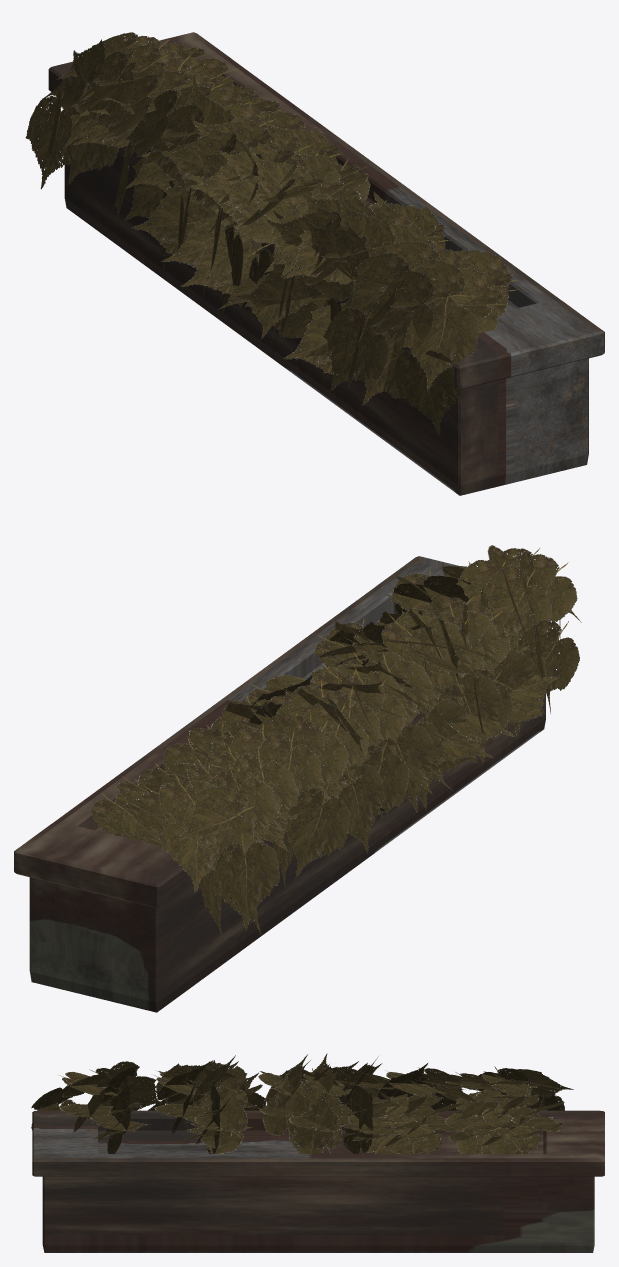
Rendered from Zuurstofplantjebak.fbx.
3 renders of one model, top to bottom at view 1: azimuth 30°, elevation 25°; view 2: azimuth 150°, elevation 25°; view 3: azimuth 270°, elevation 25°, orthographic. The views are drawn at different scales.
Parts seen in each view (by area): view 1: bak; view 2: bak; view 3: bak.
Boxes of the visible parts, <box> form: bak: <box>25,32,604,495</box>; bak: <box>14,545,581,1012</box>; bak: <box>31,1053,604,1252</box>.
Size of the model in its own units: 1.85 by 1.72 by 5.59.
